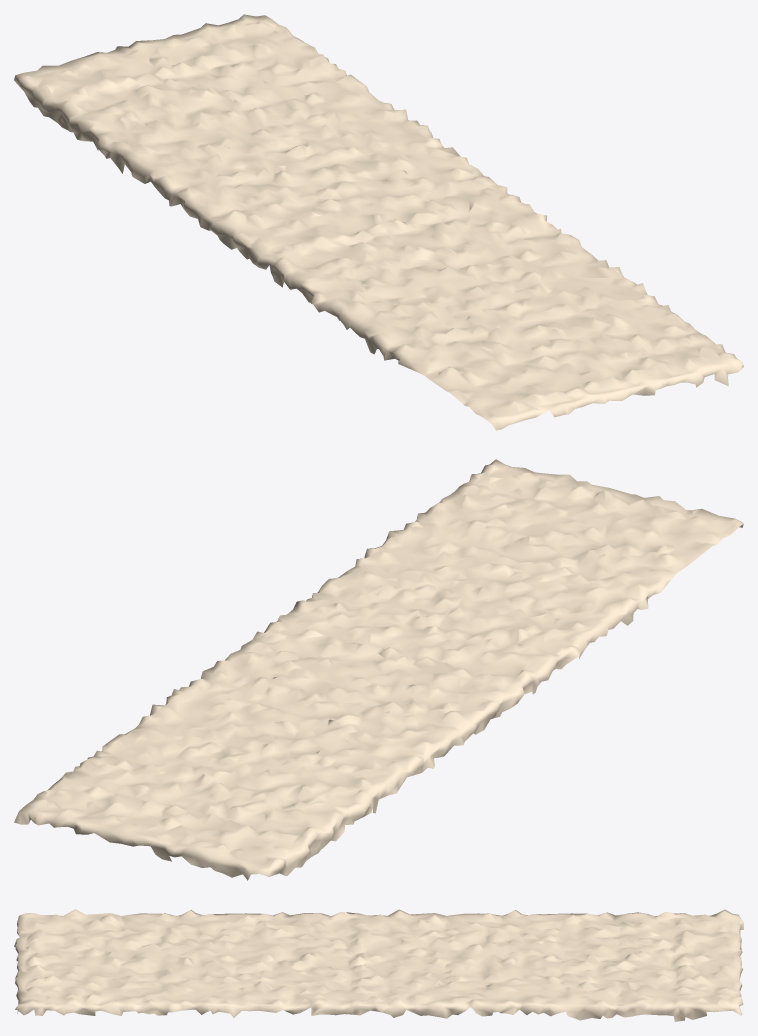
Rendered from Sand-Plane.fbx.
3 renders of one model, top to bottom at view 1: azimuth 30°, elevation 25°; view 2: azimuth 150°, elevation 25°; view 3: azimuth 270°, elevation 25°, orthographic. The views are drawn at different scales.
Parts seen in each view (by area): view 1: Sand-Plane; view 2: Sand-Plane; view 3: Sand-Plane.
Boxes of the visible parts, x1,y1,x2,y2 form: Sand-Plane: (14,14,743,430); Sand-Plane: (14,459,743,880); Sand-Plane: (14,909,743,1021).
Bounding box in the file's own units: 323 × 33.73 × 1027.
